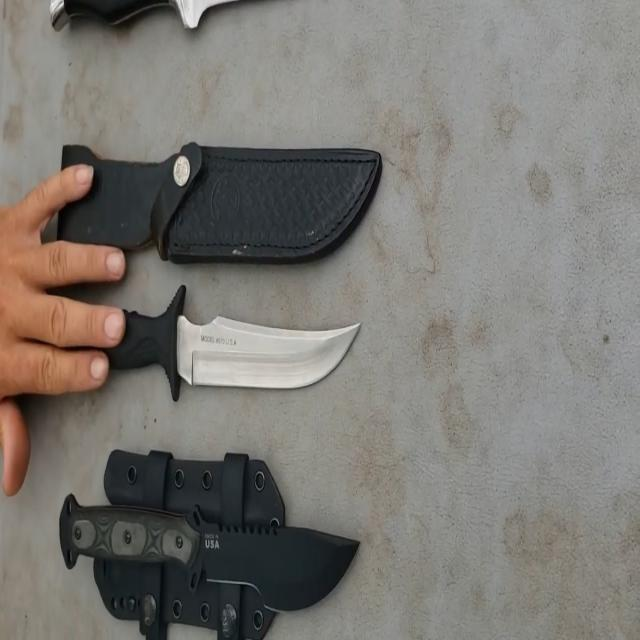knife: (25, 436, 385, 639), (27, 257, 372, 415)
